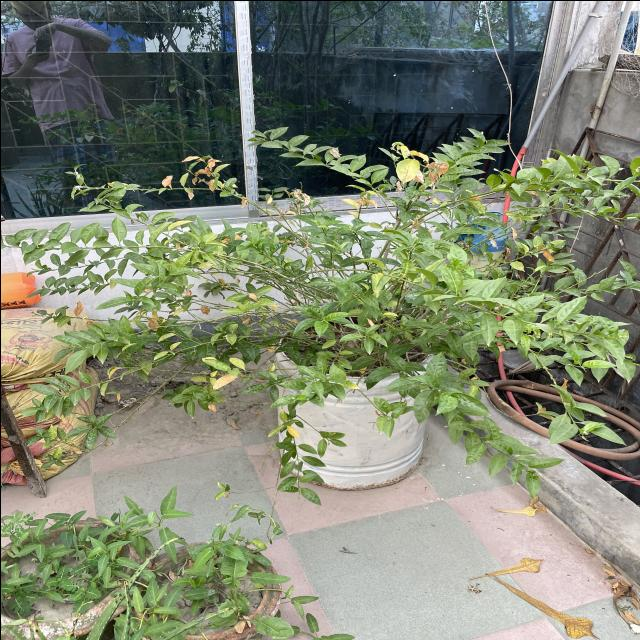Breeding Place: (264, 319, 424, 485), (0, 500, 156, 640), (103, 531, 285, 640)
